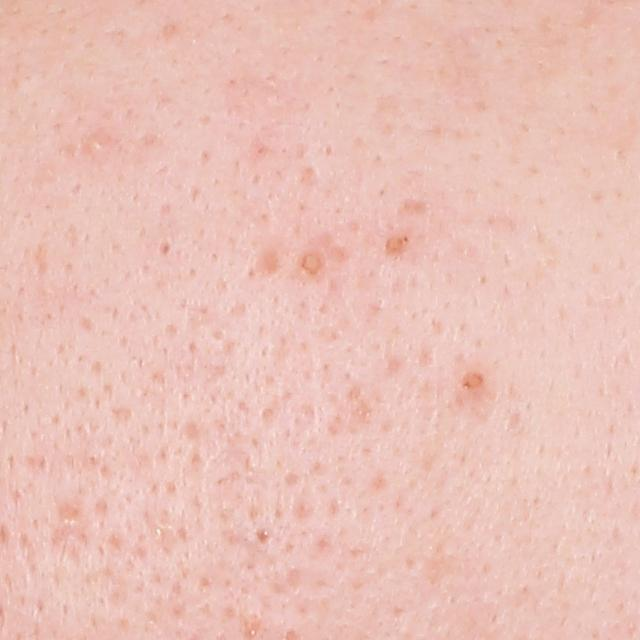atrophic_scar: (42, 497, 97, 571), (324, 384, 376, 439), (393, 192, 441, 226), (255, 245, 286, 281)
comedo: (293, 247, 329, 278), (457, 367, 486, 397), (152, 233, 179, 261), (84, 132, 106, 158)
